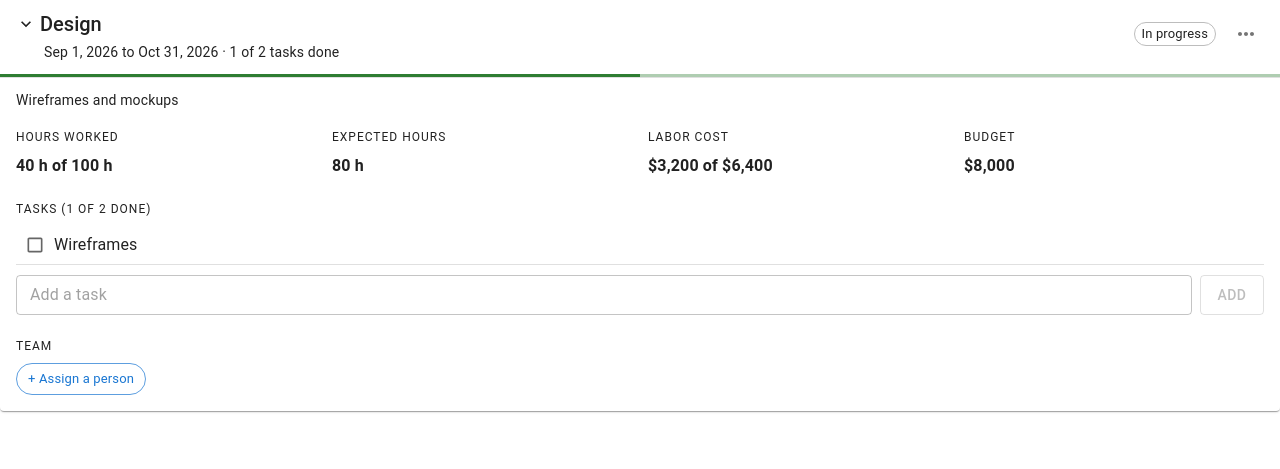
Scenario: MilestoneCard: tasks › adds a task, clears the box and shows the new item
expect the button "Add" is disabled: met, box [1200,275,1264,315]
Type "  Style guide  " into the field named "New task" at (604, 295), box [16,275,1192,315]
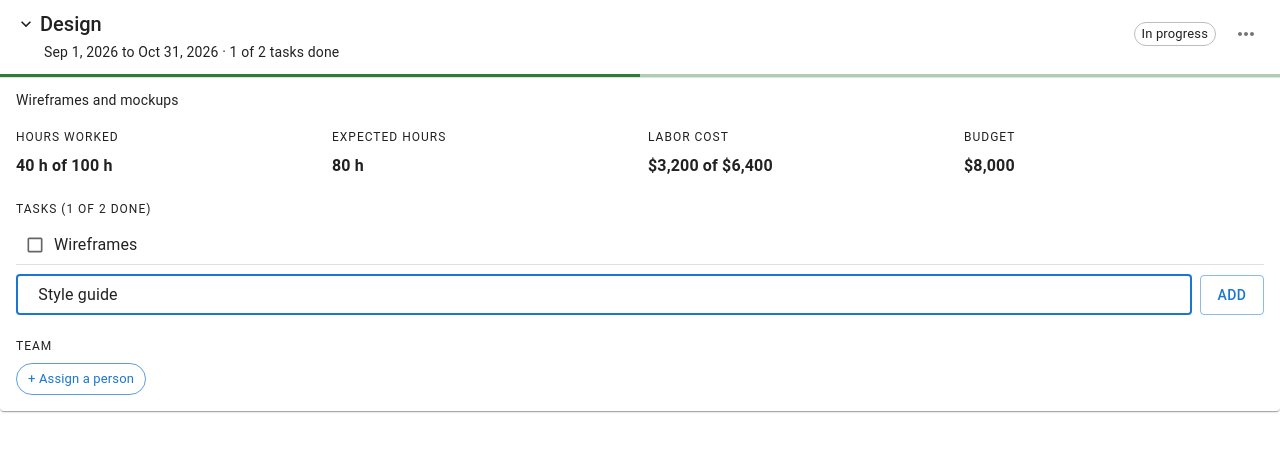
expect the button "Add" is enabled: met
Click the button "Add" at (1232, 295), box [1200,275,1264,315]
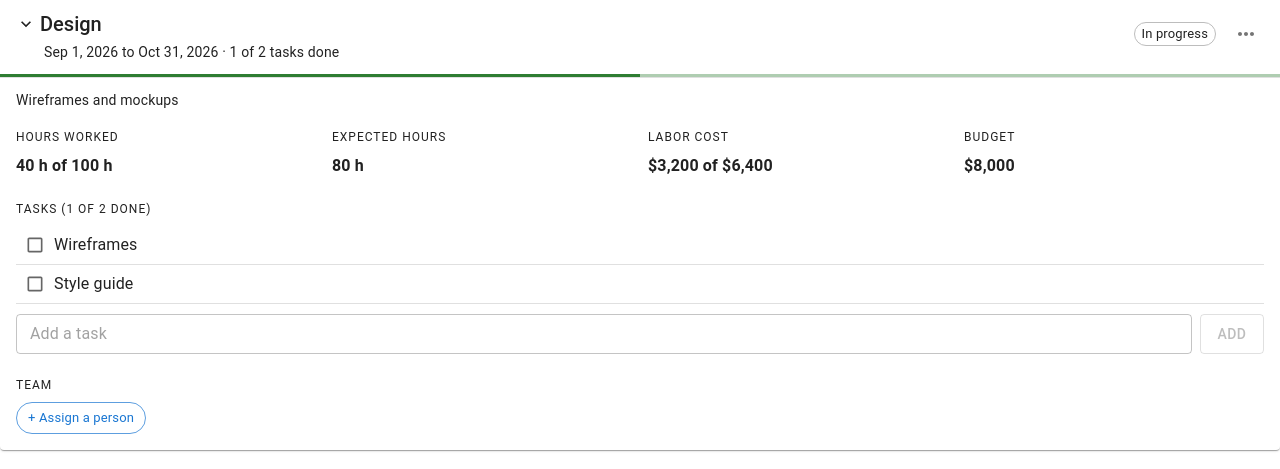
expect the checkbox labelled "Style guide" is shown: met, box [16,265,1264,304]
expect the field named "New task" is empty: met, box [16,314,1192,354]
